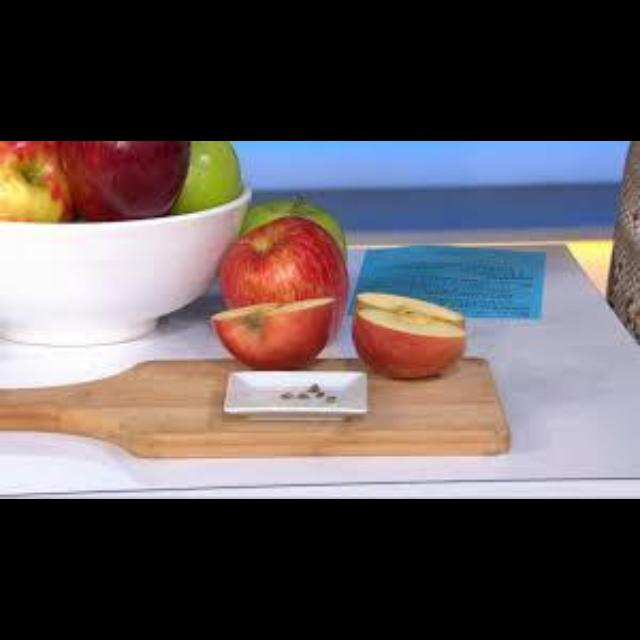apple: (220, 216, 348, 335), (58, 141, 188, 220)
